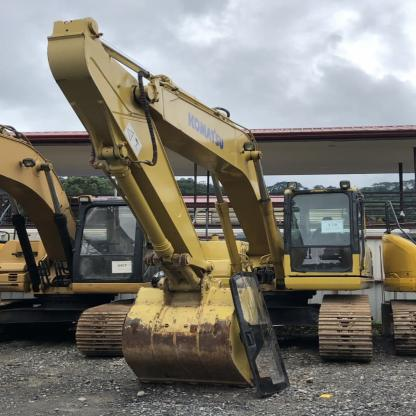excavator: (38, 13, 386, 408)
